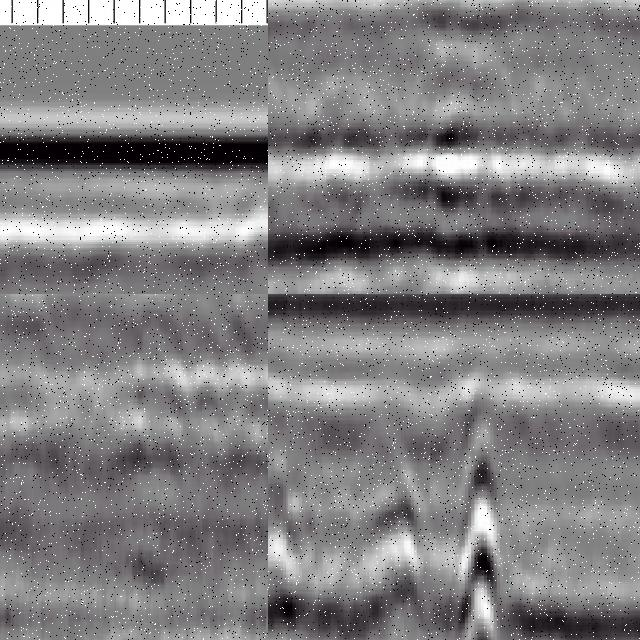crack: (458, 376, 506, 640)
loose: (269, 483, 429, 629)
